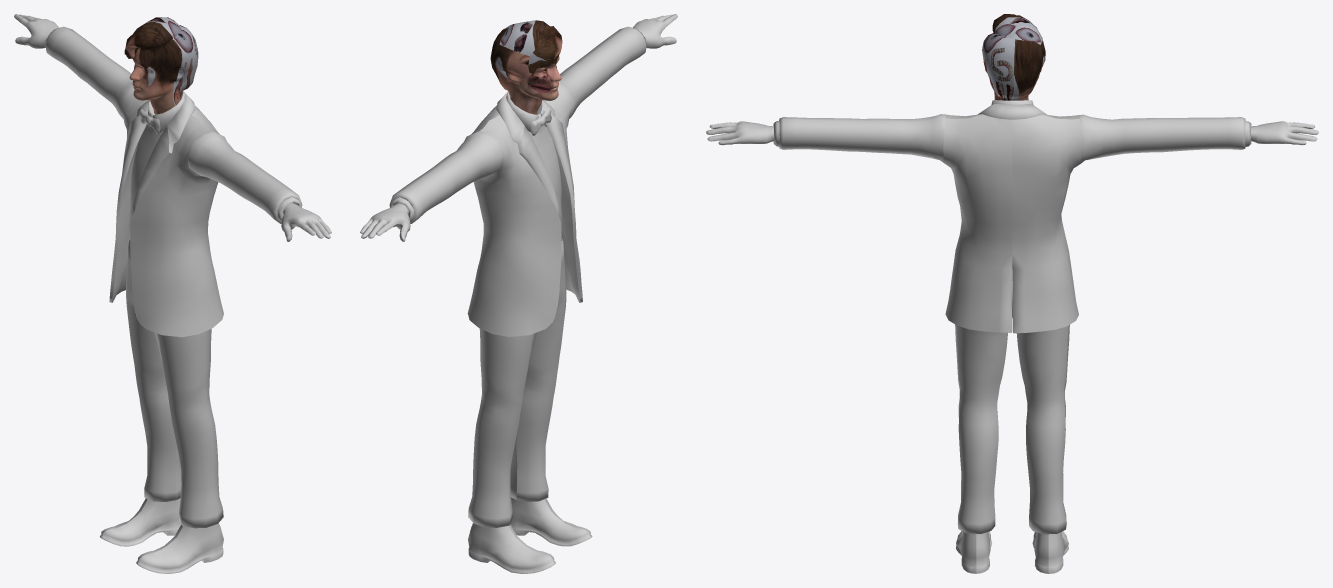
The model's file is profesor.obj.
3 renders of one model, left to right at view 1: azimuth 30°, elevation 25°; view 2: azimuth 150°, elevation 25°; view 3: azimuth 270°, elevation 25°, orthographic.
Parts seen in each view (by area): view 1: Object_Doctor_Pants_D_jpg; view 2: Object_Doctor_Pants_D_jpg; view 3: Object_Doctor_Pants_D_jpg.
Part boxes in pixels (<box>): Object_Doctor_Pants_D_jpg: <box>14,14,331,573</box>; Object_Doctor_Pants_D_jpg: <box>360,14,677,573</box>; Object_Doctor_Pants_D_jpg: <box>706,14,1318,573</box>.
Bounding box in the file's own units: 0.4428 × 2.41 × 2.5.
